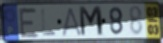8: (127, 4, 144, 37), (108, 7, 125, 36)
A: (61, 7, 84, 38)
E: (18, 7, 40, 39)
L: (40, 8, 57, 38)
M: (78, 5, 105, 38)
